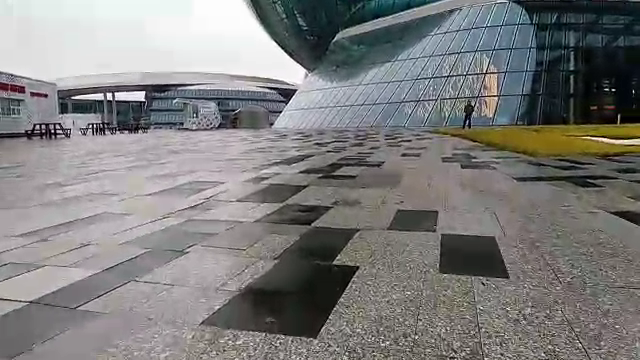kassa: (168, 91, 228, 138)
